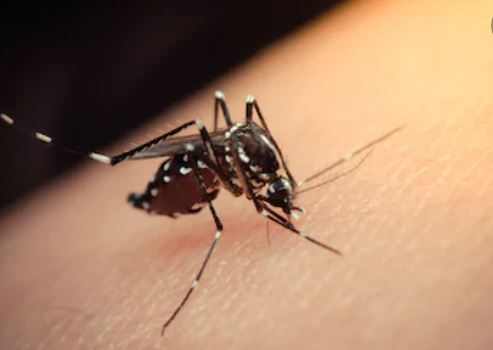dengue_mosquito: (94, 91, 344, 256)
